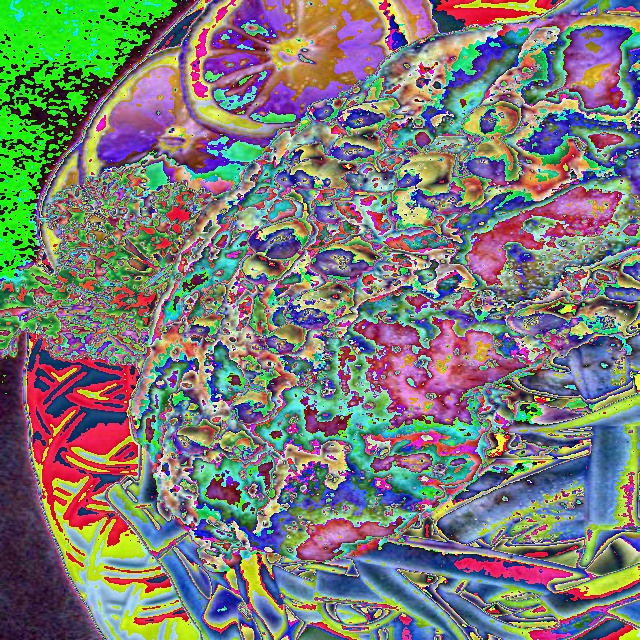background: (2, 0, 639, 640)
